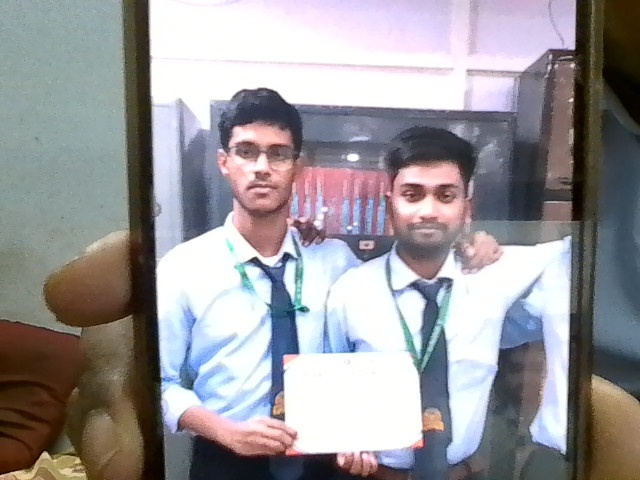real: (212, 89, 314, 233)
